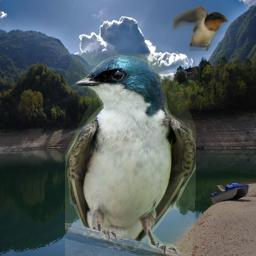Swallow: (65, 53, 196, 256), (171, 5, 228, 51)
